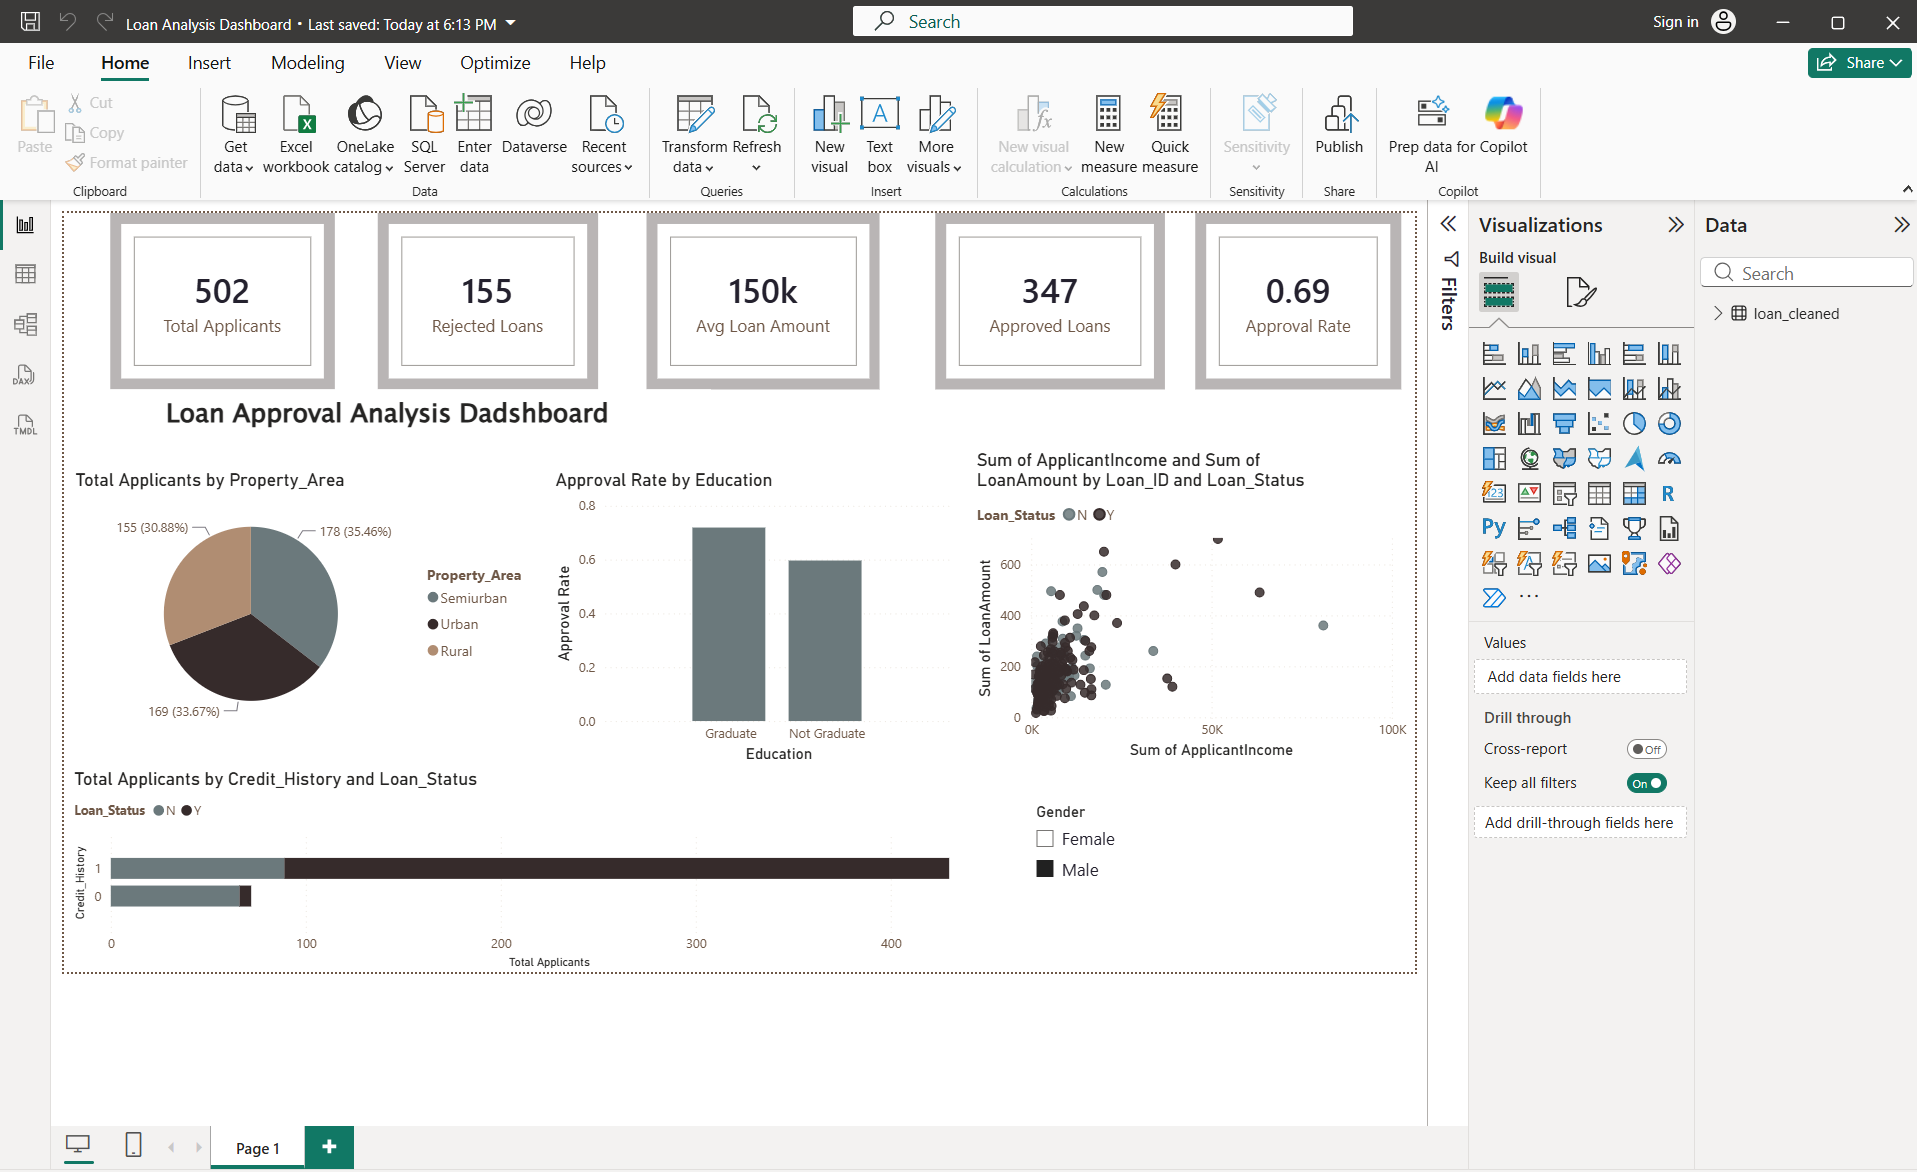

The dashboard page shown, as its layout file describes it:
{"tool":"powerbi","page":{"name":"Page 1","canvas":[1280,720],"ordinal":0},"visuals":[{"type":"pieChart","fields":{"Category":["loan_cleaned.Property_Area"],"Y":["loan_cleaned.Total Applicants"]},"box":[5.8,243,447.7,253.5],"z":5000,"group":"g2"},{"type":"barChart","fields":{"Series":["loan_cleaned.Loan_Status"],"Category":["loan_cleaned.Credit_History"],"Y":["loan_cleaned.Total Applicants"]},"box":[5,525.3,886.1,194.9],"z":6000,"group":"g2"},{"type":"clusteredColumnChart","fields":{"Category":["loan_cleaned.Education"],"Y":["loan_cleaned.Approval Rate"]},"box":[461.5,243,386,282.6],"z":7000,"group":"g2"},{"type":"scatterChart","fields":{"X":["Sum(loan_cleaned.ApplicantIncome)"],"Y":["Sum(loan_cleaned.LoanAmount)"],"Series":["loan_cleaned.Loan_Status"],"Category":["loan_cleaned.Loan_ID"]},"box":[860.3,224.4,417.4,297.7],"z":8000,"group":"g2"},{"type":"slicer","fields":{"Values":["loan_cleaned.Gender"]},"box":[908.8,554.4,367.1,101.3],"z":9000,"group":"g2"},{"type":"cardVisual","fields":{"Data":["loan_cleaned.Approval Rate"]},"box":[1071.9,0,195.4,167.1],"z":9001,"group":"g1"},{"type":"cardVisual","fields":{"Data":["loan_cleaned.Total Applicants"]},"box":[43.9,0,212.7,167.1],"z":9003,"group":"g1"},{"type":"cardVisual","fields":{"Data":["loan_cleaned.Approved Loans"]},"box":[825.1,0,217.7,167.1],"z":9004,"group":"g1"},{"type":"cardVisual","fields":{"Data":["loan_cleaned.Avg Loan Amount"]},"box":[552.3,0,221.2,167.1],"z":9005,"group":"g1"},{"type":"cardVisual","fields":{"Data":["loan_cleaned.Rejected Loans"]},"box":[297.1,0,208.9,167.1],"z":9006,"group":"g1"},{"type":"group","id":"g1","title":"Group 1","box":[43.9,0,1223.4,167.1],"z":9007,"group":"g2"},{"type":"group","id":"g2","title":"Group 2","box":[5,0,1272.8,720.3],"z":9010},{"type":"textbox","box":[0,167.1,612.7,48.1],"z":9011}]}

Visuals, with their boxes on the page's 1280x720 design canvas (x1, y1, x2, y2). These are canvas units, not pixel positions in the 1917x1172 screenshot, which may show the page scaled, cropped or inside an application window:
pieChart - loan_cleaned.Property_Area x loan_cleaned.Total Applicants: locate(6, 243, 454, 496)
barChart - loan_cleaned.Loan_Status x loan_cleaned.Credit_History: locate(5, 525, 891, 720)
clusteredColumnChart - loan_cleaned.Education x loan_cleaned.Approval Rate: locate(462, 243, 848, 526)
scatterChart - Sum(loan_cleaned.ApplicantIncome) x Sum(loan_cleaned.LoanAmount): locate(860, 224, 1278, 522)
slicer - loan_cleaned.Gender: locate(909, 554, 1276, 656)
cardVisual - loan_cleaned.Approval Rate: locate(1072, 0, 1267, 167)
cardVisual - loan_cleaned.Total Applicants: locate(44, 0, 257, 167)
cardVisual - loan_cleaned.Approved Loans: locate(825, 0, 1043, 167)
cardVisual - loan_cleaned.Avg Loan Amount: locate(552, 0, 774, 167)
cardVisual - loan_cleaned.Rejected Loans: locate(297, 0, 506, 167)
"Group 1" group: locate(44, 0, 1267, 167)
"Group 2" group: locate(5, 0, 1278, 720)
textbox: locate(0, 167, 613, 215)
